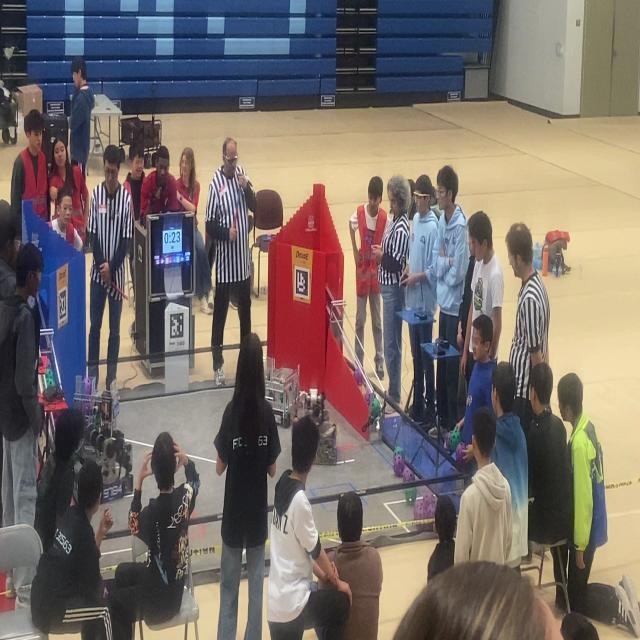artifact_green: (370, 396, 381, 419), (450, 430, 461, 452), (394, 446, 404, 456)
artifact_purple: (414, 491, 435, 520), (421, 491, 435, 519), (414, 498, 426, 520), (393, 456, 405, 477), (450, 430, 461, 452), (404, 488, 416, 505), (456, 442, 465, 462), (354, 368, 364, 386), (403, 467, 414, 482), (444, 432, 450, 450), (365, 389, 372, 404)
